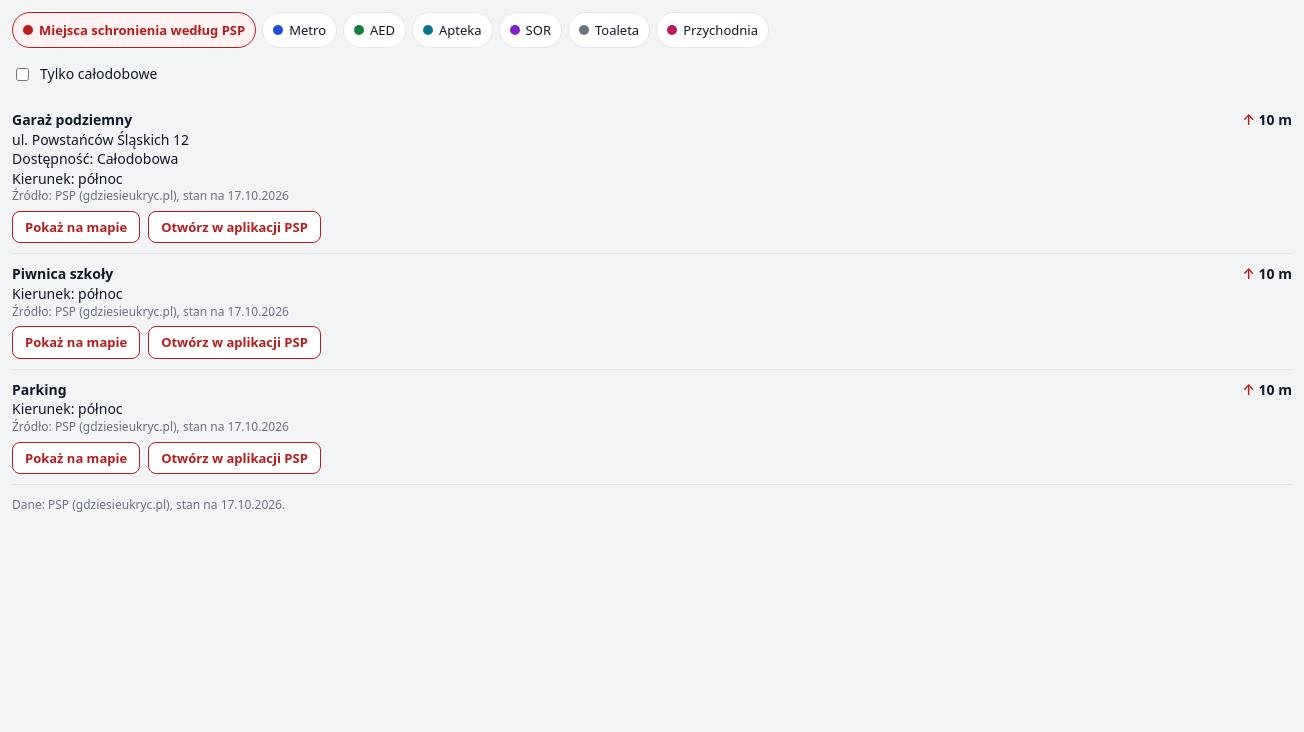
Test: filtr „Tylko całodobowe” na zakładkach PSP i AED
Expected: the list with test id "lista-punktow" is shown, x1=12 y1=100 x2=1292 y2=485
Click the checkbox labelled "Tylko całodobowe". click: [22, 74]
box: x1=16 y1=68 x2=29 y2=80
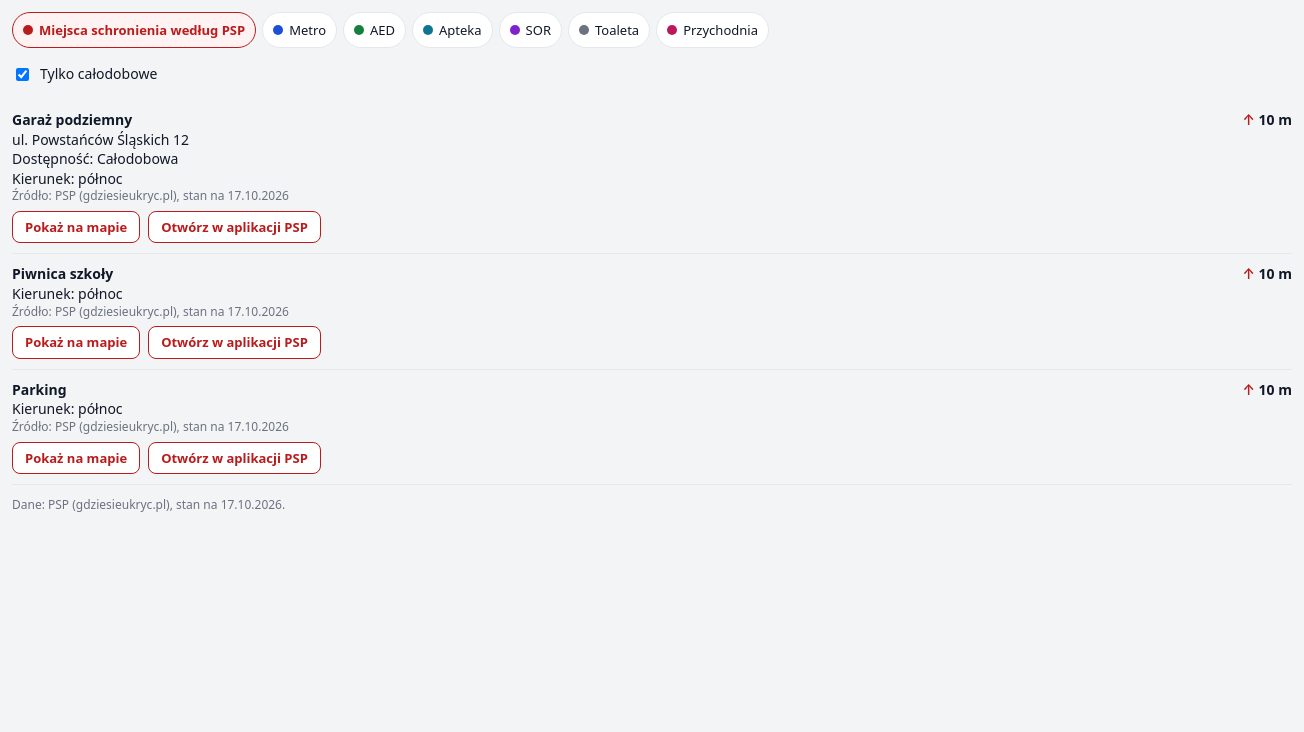
Expected: the list with test id "lista-punktow" is shown, x1=12 y1=100 x2=1292 y2=485
Click the tab "AED". click: [374, 30]
box: x1=343 y1=12 x2=406 y2=48
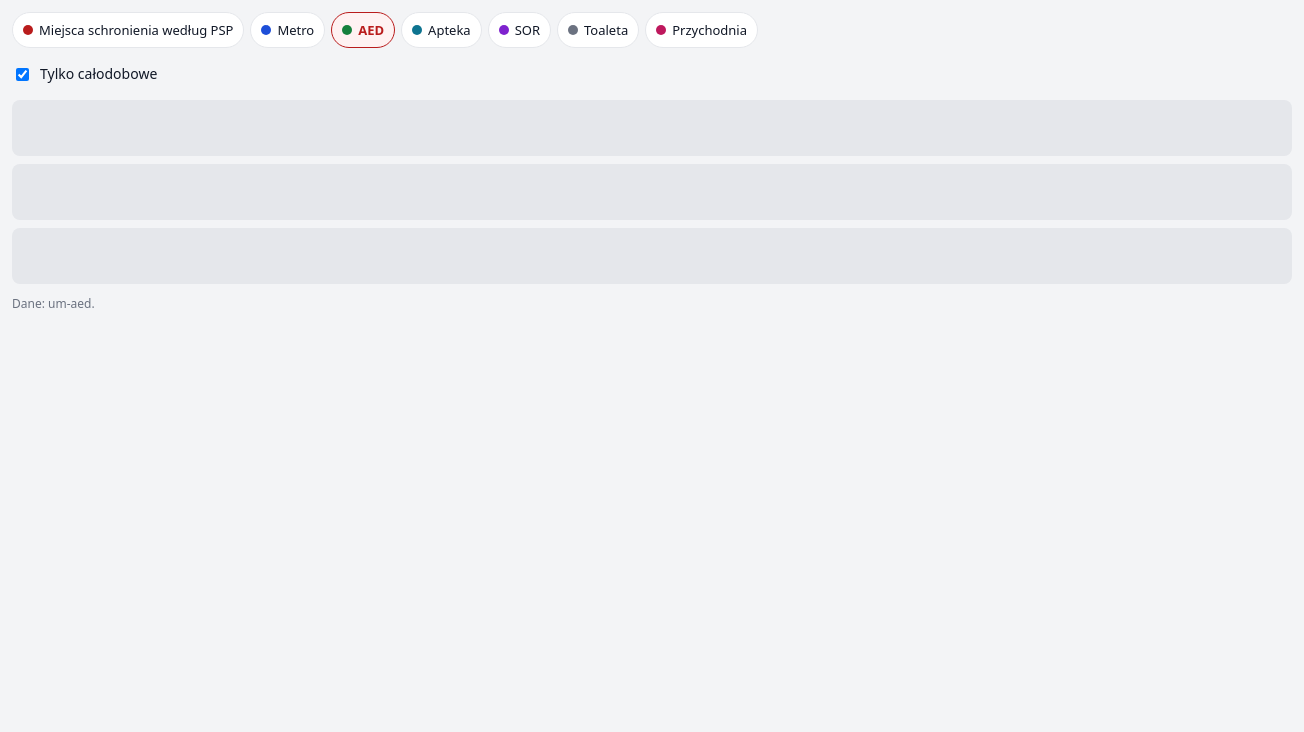
Click the tab "Metro". click: [288, 30]
box: x1=250 y1=12 x2=325 y2=48
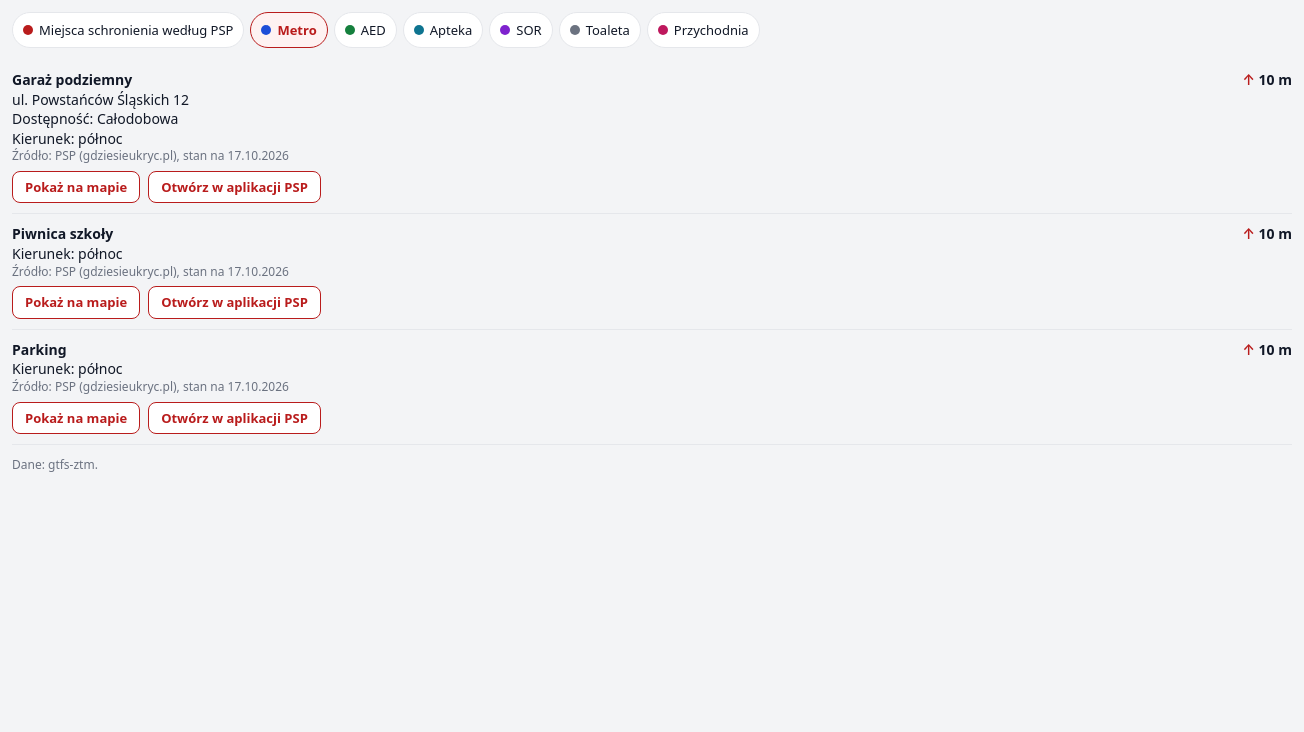
Expected: the label "Tylko całodobowe" is gone
